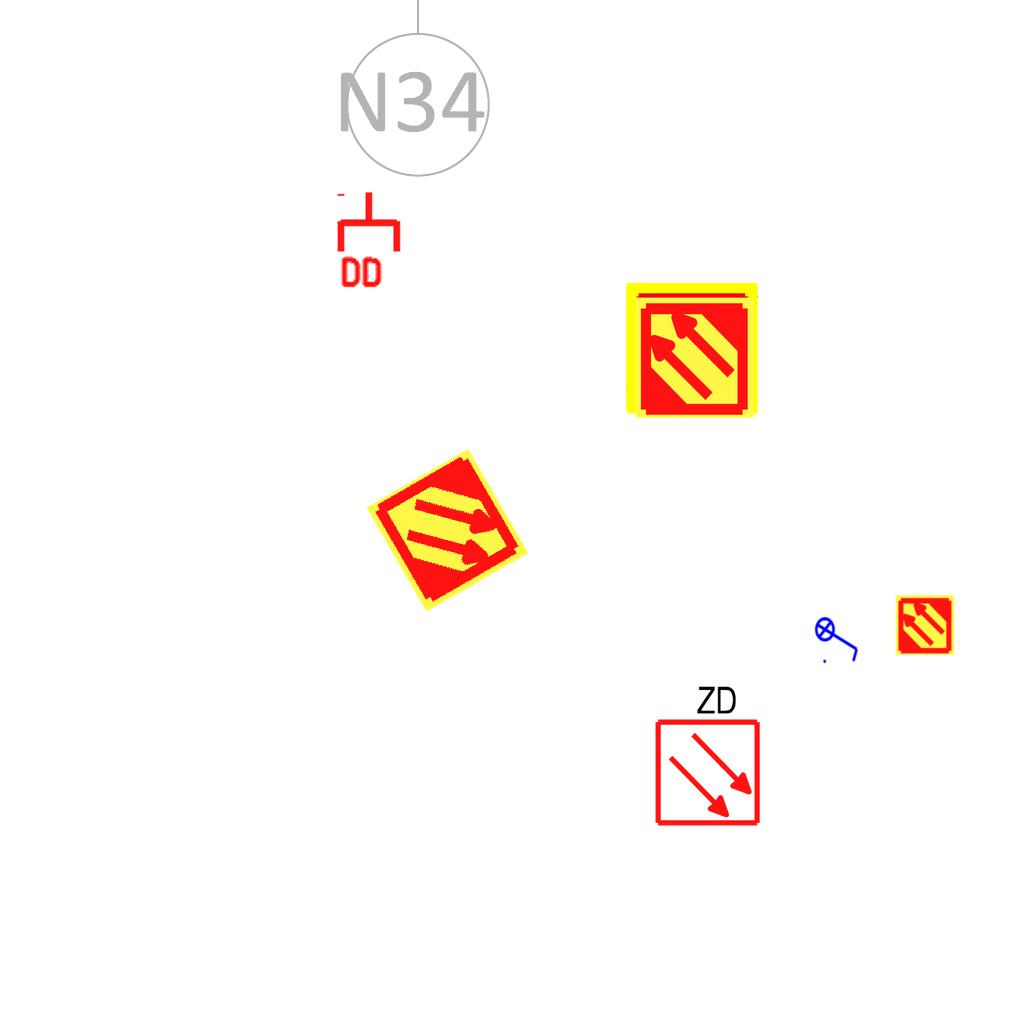ASR_Ansaugrauchmelder: (362, 445, 533, 616), (632, 295, 757, 420), (894, 594, 956, 656)
Ausschalter_beleuchtet: (814, 610, 862, 666)
Datenanschluss_zweifach: (336, 189, 405, 292)
NAM-Nichtautomatischer_Melder: (626, 282, 758, 414)
ZD_Melder_in_Zwischendecke_mit_Revisionsoeffnung_mind_40_x_40_cm: (649, 679, 763, 828)
